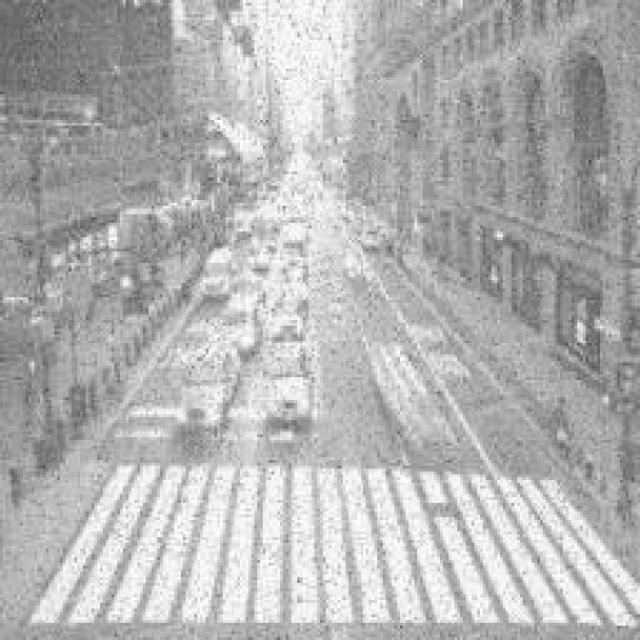walk-crossing: (13, 461, 638, 630)
